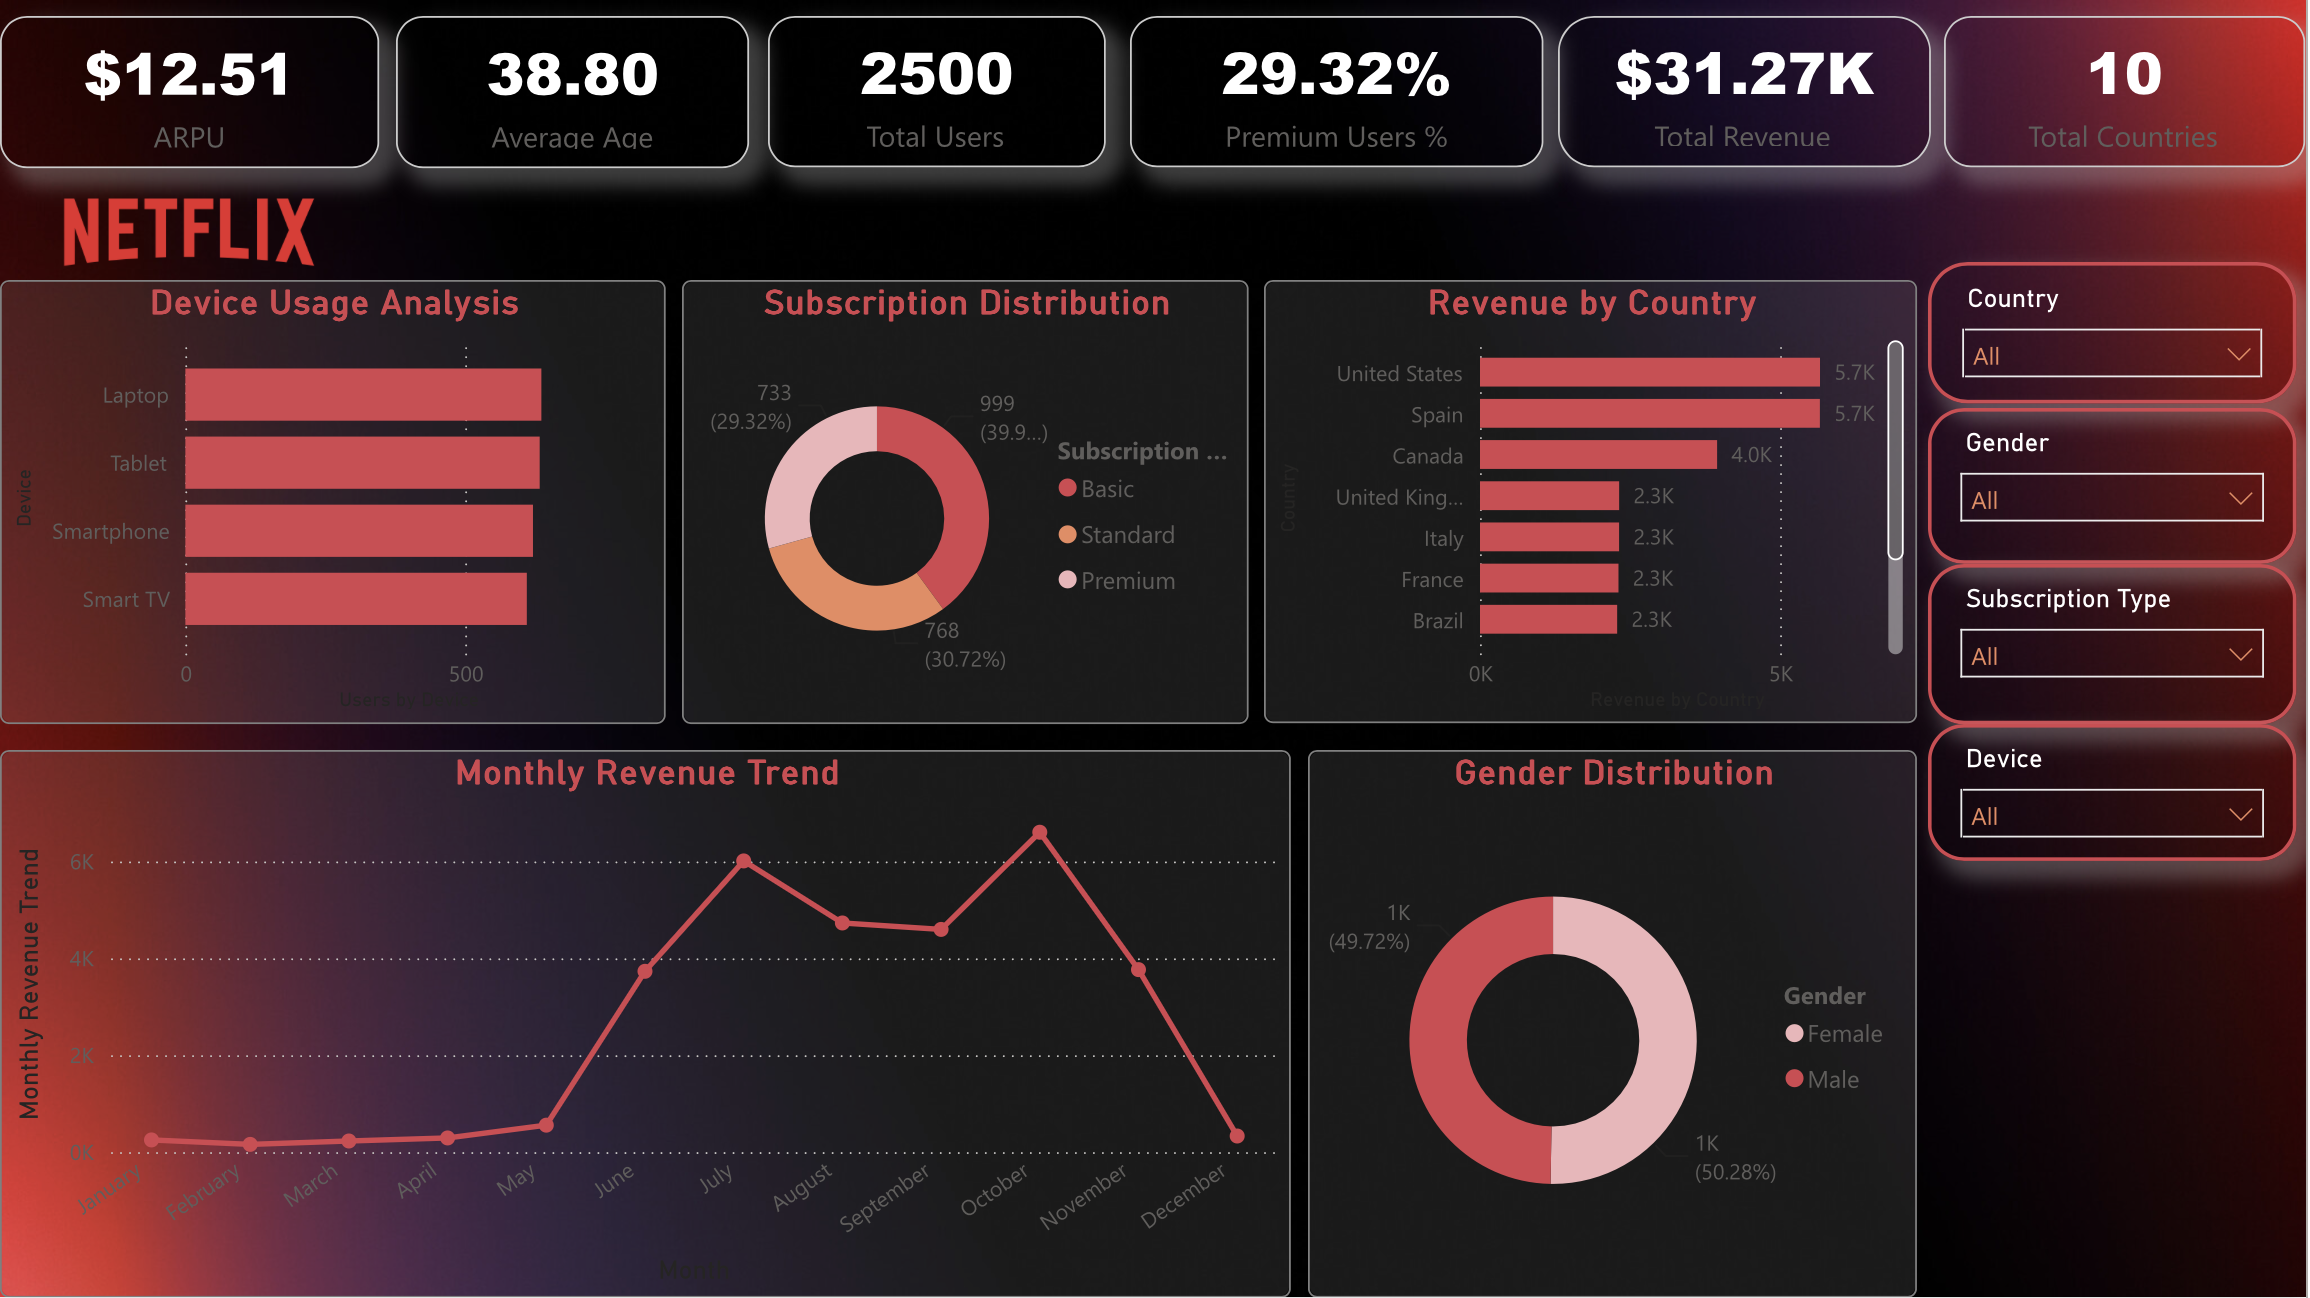

Layout of this report page (visuals, bound fields, positions):
{"tool":"powerbi","page":{"name":"Page 1","canvas":[1280,720],"ordinal":0},"visuals":[{"type":"clusteredBarChart","title":"Revenue by Country","fields":{"Category":["Country.Country"],"Y":["Netflix Userbase.Revenue by Country"]},"box":[701.9,155.6,362.6,246.2],"z":0},{"type":"donutChart","title":"Subscription Distribution","fields":{"Category":["Subscriptions.Subscription Type"],"Y":["Netflix Userbase.Total Users"]},"box":[378.6,155.9,314.4,246.3],"z":1000},{"type":"barChart","title":"Device Usage Analysis","fields":{"Category":["Device.Device"],"Y":["Netflix Userbase.Users by Device"]},"box":[0,155.9,369.5,246.3],"z":2000},{"type":"lineChart","title":"Monthly Revenue Trend","fields":{"Category":["Netflix Userbase.Join Date.Variation.Date Hierarchy.Year","Netflix Userbase.Join Date.Variation.Date Hierarchy.Quarter","Netflix Userbase.Join Date.Variation.Date Hierarchy.Month","Netflix Userbase.Join Date.Variation.Date Hierarchy.Day"],"Y":["Netflix Userbase.Monthly Revenue Trend"]},"box":[0,416.6,716.6,304],"z":3000},{"type":"donutChart","title":"Gender Distribution","fields":{"Category":["gender.Gender"],"Y":["Netflix Userbase.Total Users"]},"box":[726.4,416.5,338.1,303.8],"z":4000},{"type":"slicer","fields":{"Values":["Country.Country"]},"box":[1070.4,145.4,204.4,78.6],"z":5000},{"type":"slicer","fields":{"Values":["gender.Gender"]},"box":[1070.4,226.7,204.4,86.5],"z":6000},{"type":"slicer","fields":{"Values":["Subscriptions.Subscription Type"]},"box":[1070.4,313.1,204.4,89.1],"z":7000},{"type":"slicer","fields":{"Values":["Device.Device"]},"box":[1070.4,402.2,204.4,76],"z":8000},{"type":"card","fields":{"Values":["Netflix Userbase.Total Users"]},"box":[425.8,9.2,187.3,83.8],"z":9000},{"type":"card","fields":{"Values":["Netflix Userbase.Total Revenue"]},"box":[864.7,9.2,207,83.8],"z":10000},{"type":"card","fields":{"Values":["Netflix Userbase.ARPU"]},"box":[0,8.5,210.3,84.7],"z":11000},{"type":"card","fields":{"Values":["Netflix Userbase.Average Age"]},"box":[220.2,8.5,196.2,84.7],"z":12000},{"type":"card","fields":{"Values":["Netflix Userbase.Total Countries"]},"box":[1079.5,9.2,200.5,83.8],"z":13000},{"type":"card","fields":{"Values":["Netflix Userbase.Premium Users %"]},"box":[627.6,9.2,229.3,83.8],"z":14000},{"type":"image","box":[0,91.7,210.3,73.4],"z":15000}]}

Visuals, with their boxes in screenshot pixels (x1, y1, x2, y2), scaled from the page's 1280x720 canvas onto the 2310x1298 screenshot:
"Revenue by Country" clusteredBarChart: 1267, 281, 1921, 724
"Subscription Distribution" donutChart: 683, 281, 1251, 725
"Device Usage Analysis" barChart: 0, 281, 667, 725
"Monthly Revenue Trend" lineChart: 0, 751, 1293, 1297
"Gender Distribution" donutChart: 1311, 751, 1921, 1297
slicer - Country.Country: 1932, 262, 2301, 404
slicer - gender.Gender: 1932, 409, 2301, 565
slicer - Subscriptions.Subscription Type: 1932, 564, 2301, 725
slicer - Device.Device: 1932, 725, 2301, 862
card - Netflix Userbase.Total Users: 768, 17, 1106, 168
card - Netflix Userbase.Total Revenue: 1561, 17, 1934, 168
card - Netflix Userbase.ARPU: 0, 15, 380, 168
card - Netflix Userbase.Average Age: 397, 15, 751, 168
card - Netflix Userbase.Total Countries: 1948, 17, 2309, 168
card - Netflix Userbase.Premium Users %: 1133, 17, 1546, 168
image: 0, 165, 380, 298
